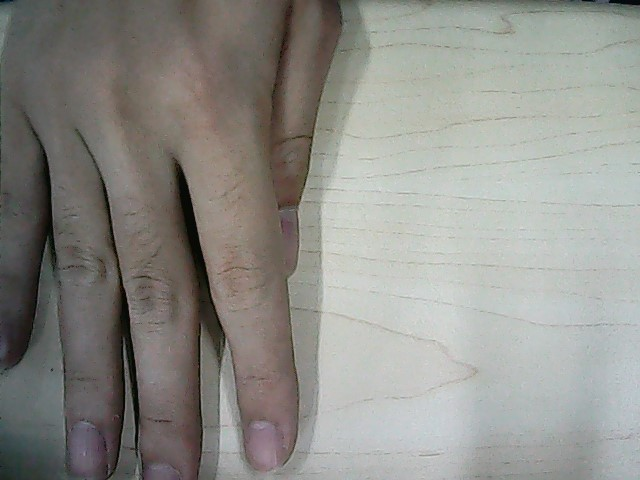nail: (66, 422, 110, 480), (244, 423, 284, 471)
